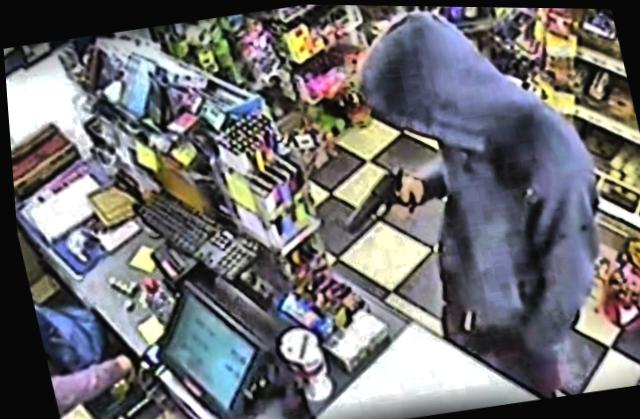pistol: (330, 160, 419, 237)
